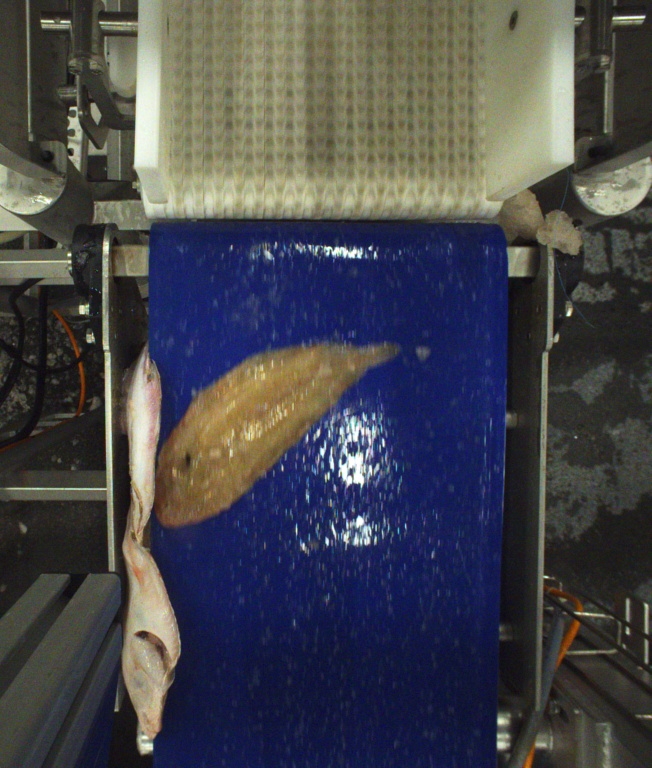SOL: (145, 337, 396, 531)
